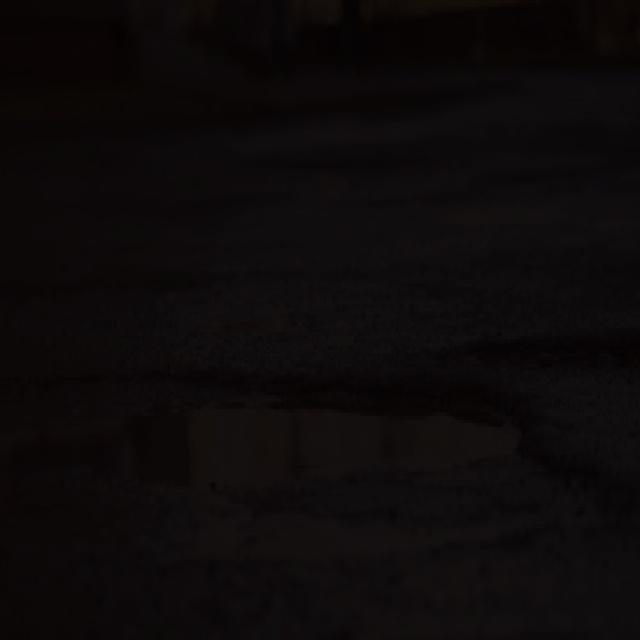Pothole: (0, 347, 640, 574), (464, 306, 640, 380)
